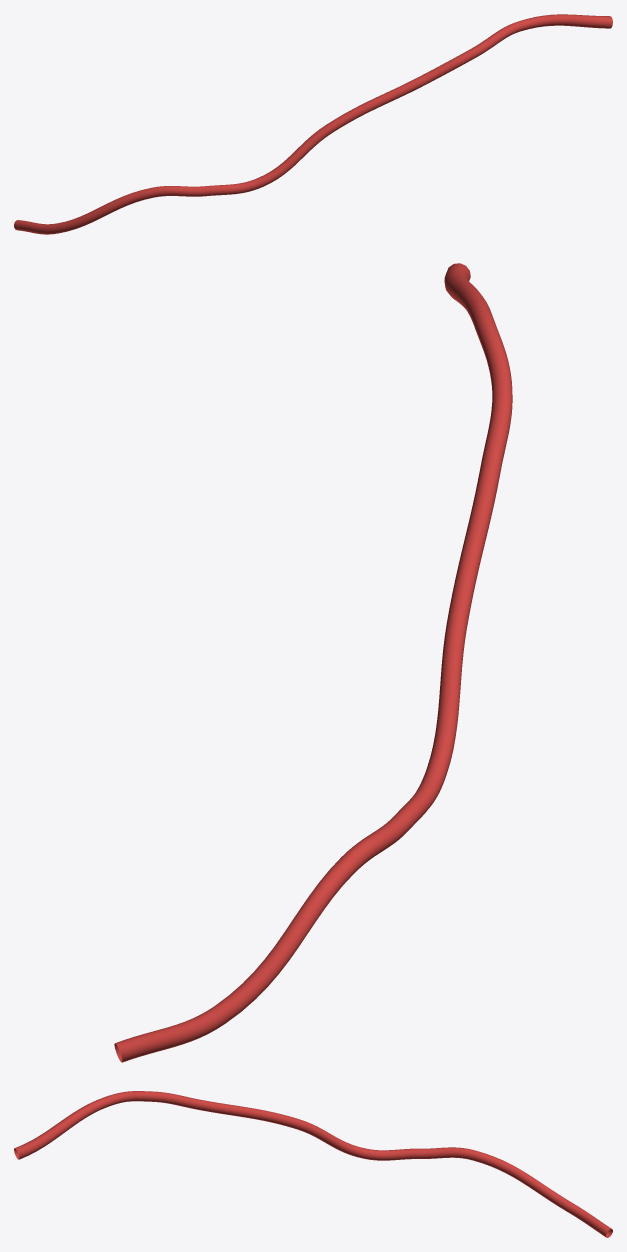
The picture shows the model from 3 angles, top to bottom: view 1: azimuth 90°, elevation 25°; view 2: azimuth 150°, elevation 25°; view 3: azimuth 270°, elevation 25°; orthographic projection. The views are drawn at different scales.
Visible parts, largest first — view 1: 右侧桡侧副动脉; view 2: 右侧桡侧副动脉; view 3: 右侧桡侧副动脉.
Part boxes in pixels (box(x1,y1,x2,y2)): 右侧桡侧副动脉: box(14, 14, 612, 234); 右侧桡侧副动脉: box(114, 263, 512, 1062); 右侧桡侧副动脉: box(14, 1091, 612, 1237).
Size of the model in its own units: 0.075 by 0.0681 by 0.2118.
